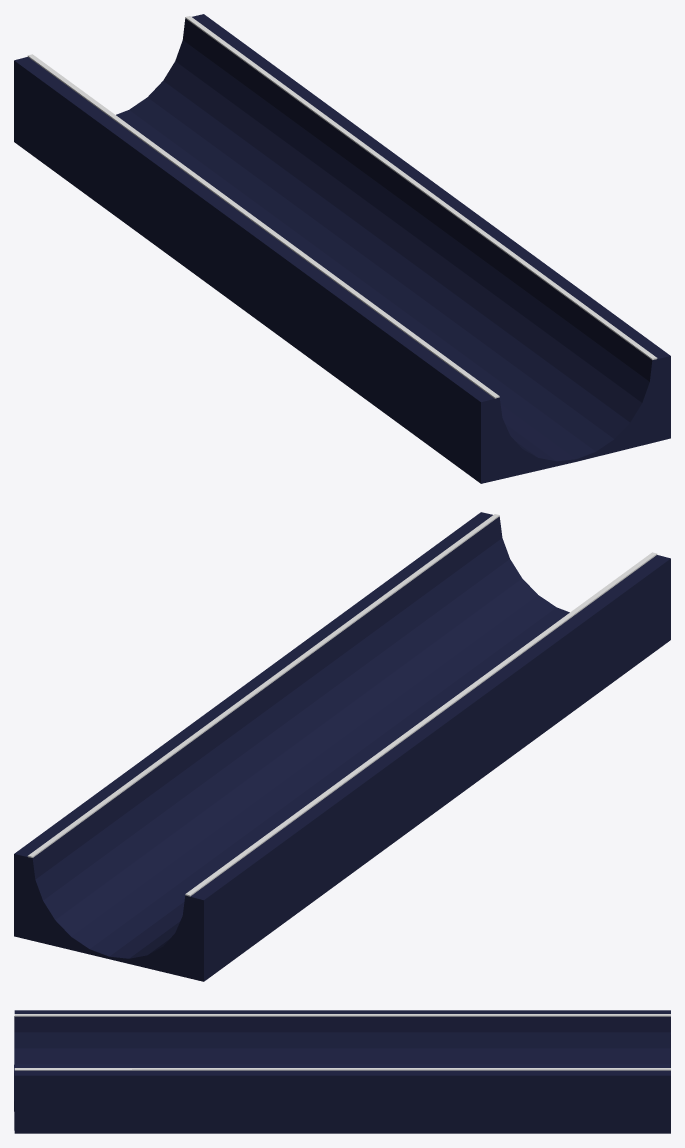
The model's file is HalfPipe.fbx.
3 views of the same model, one above another, from view 1: azimuth 30°, elevation 25°; view 2: azimuth 150°, elevation 25°; view 3: azimuth 270°, elevation 25° (orthographic). The views are drawn at different scales.
Parts seen in each view (by area): view 1: New HalfPipe; view 2: New HalfPipe; view 3: New HalfPipe.
Part boxes in pixels (x1,y1,x2,y2): New HalfPipe: [14, 14, 670, 483]; New HalfPipe: [14, 512, 670, 981]; New HalfPipe: [14, 1010, 670, 1133].
Size of the model in its own units: 23.46 by 9.93 by 100.
